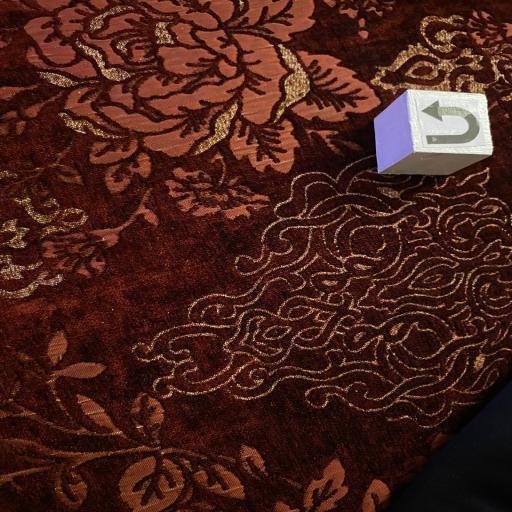Undo: (372, 88, 494, 176)
